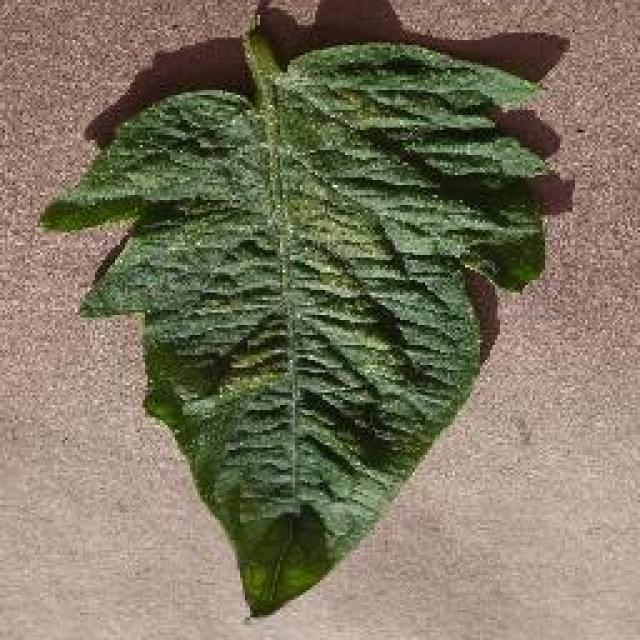Tomato___Spider_mites Two-spotted_spider_mite: (42, 15, 545, 612)
